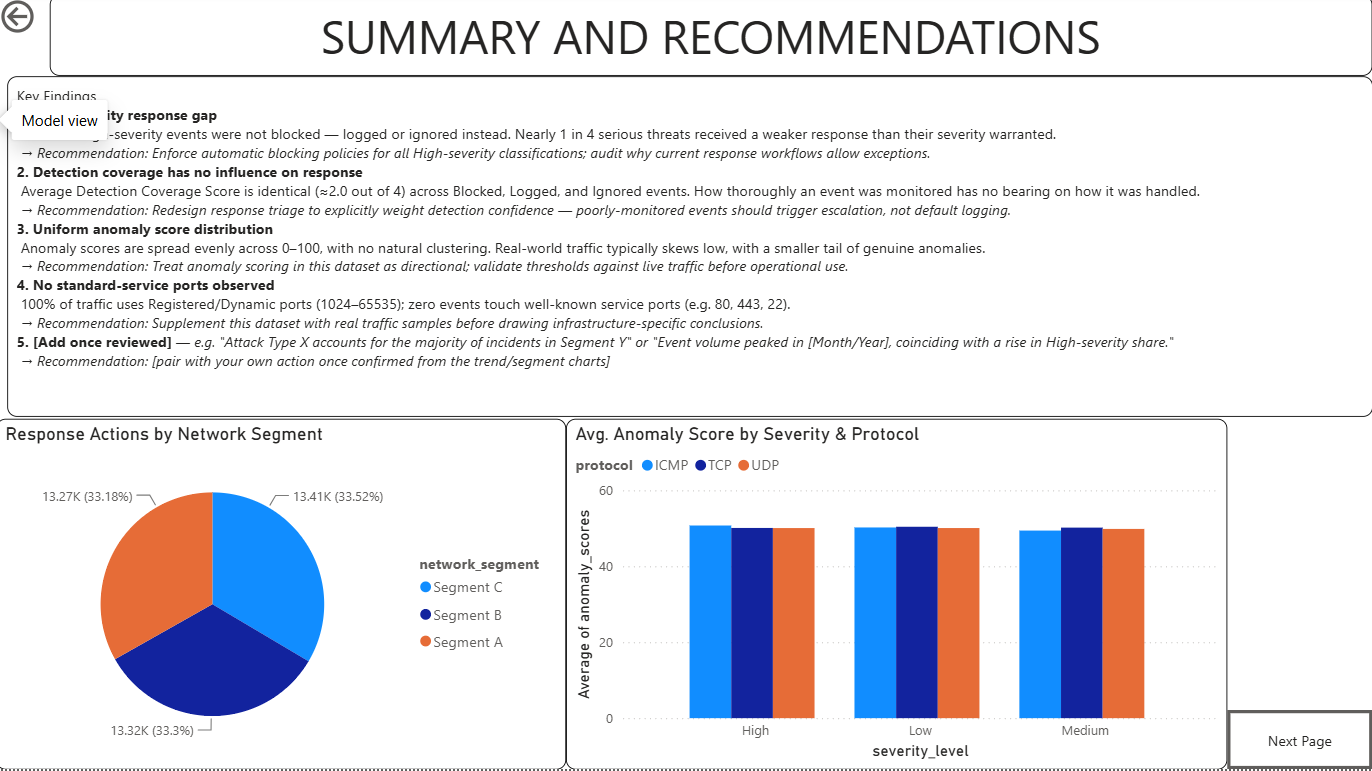

Layout of this report page (visuals, bound fields, positions):
{"tool":"powerbi","page":{"name":"Summary & Recommendations","canvas":[1280,720],"ordinal":2},"visuals":[{"type":"textbox","box":[50,0,1230,75],"z":0},{"type":"textbox","box":[10,75.7,1270,317.1],"z":1000},{"type":"pieChart","title":"Response Actions by Network Segment","fields":{"Y":["CountNonNull(public cybersecurity_attacks.action_taken)"],"Category":["public cybersecurity_attacks.network_segment"]},"box":[0,393.8,530,326.2],"z":1001},{"type":"clusteredColumnChart","title":"Avg. Anomaly Score by Severity & Protocol","fields":{"Y":["Avg(public cybersecurity_attacks.anomaly_scores)"],"Category":["public cybersecurity_attacks.severity_level"],"Series":["public cybersecurity_attacks.protocol"]},"box":[530,393.8,615,326.2],"z":1002},{"type":"actionButton","box":[0,0,100,40],"z":1003},{"type":"actionButton","box":[1145,665,135,55],"z":1004},{"type":"textbox","box":[1160,678.8,105,32.5],"z":1005}]}

Visuals, with their boxes on the page's 1280x720 design canvas (x1, y1, x2, y2). These are canvas units, not pixel positions in the 1372x771 screenshot, which may show the page scaled, cropped or inside an application window:
textbox: <box>50,0,1280,75</box>
textbox: <box>10,76,1280,393</box>
"Response Actions by Network Segment" pieChart: <box>0,394,530,720</box>
"Avg. Anomaly Score by Severity & Protocol" clusteredColumnChart: <box>530,394,1145,720</box>
actionButton: <box>0,0,100,40</box>
actionButton: <box>1145,665,1280,720</box>
textbox: <box>1160,679,1265,711</box>
